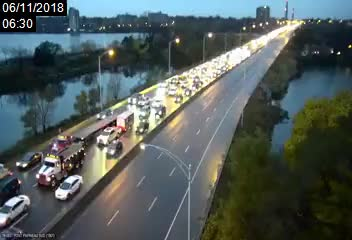congestion: (14, 133, 130, 209), (94, 97, 158, 138), (138, 86, 185, 108), (168, 74, 205, 89), (189, 63, 221, 77)
personal_car: (1, 198, 29, 227), (54, 174, 82, 202), (15, 152, 41, 170), (106, 139, 122, 159), (95, 108, 114, 119), (135, 122, 150, 135), (127, 93, 140, 105), (153, 107, 167, 116), (138, 109, 149, 119), (172, 95, 184, 103)
truck: (37, 146, 88, 187), (55, 116, 114, 147)
